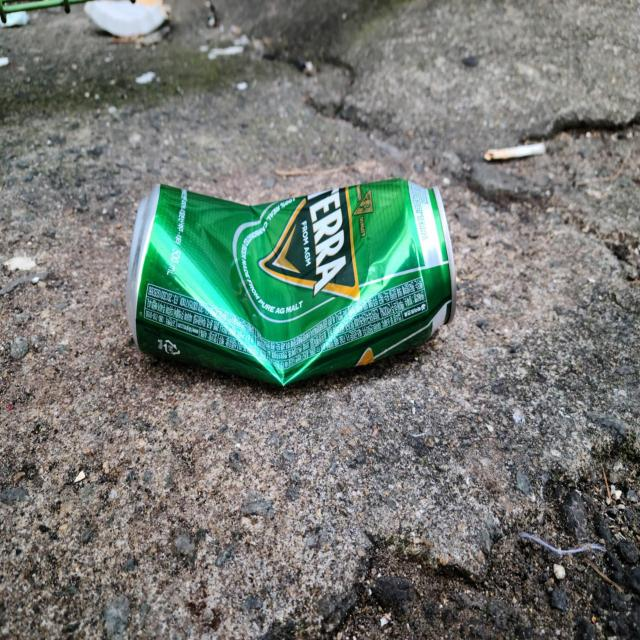can: (126, 178, 456, 385)
